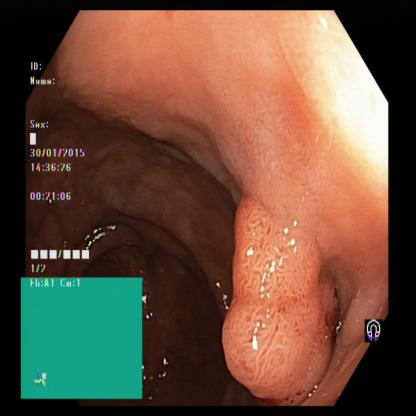Labels: (26, 60, 98, 278), (22, 278, 140, 399), (356, 307, 390, 351)
Polyps: (223, 195, 338, 400)
